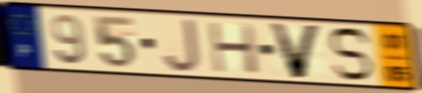5: (91, 14, 140, 70)
9: (49, 12, 87, 67)
H: (205, 19, 262, 76)
J: (161, 17, 202, 74)
S: (326, 26, 374, 83)
V: (266, 21, 325, 81)
